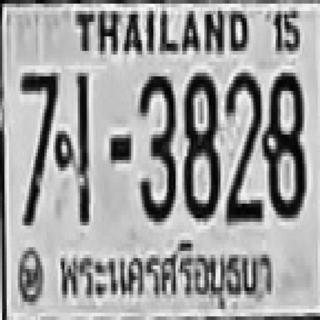N02: (225, 71, 260, 220)
N03: (137, 73, 174, 218)
N07: (19, 69, 57, 222), (19, 69, 57, 185)
N08: (262, 69, 304, 215), (182, 69, 218, 218)
P03: (56, 239, 277, 308)
